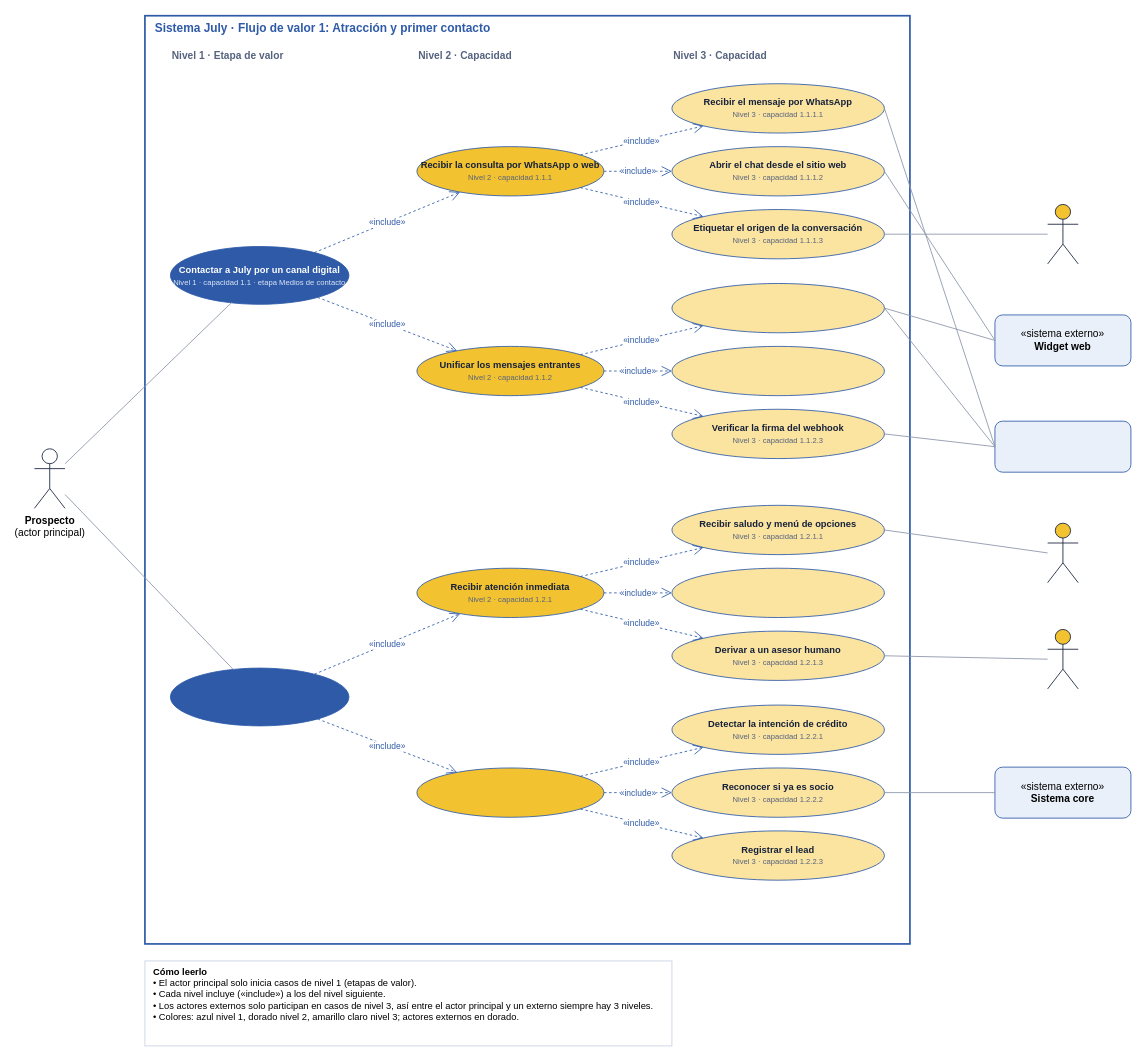
The diagram is 1146 pixels wide and 1061 high, and some of its shapes have lost their labels. Here are the shapes that lost their labels. From the top down, the centre of each, then its label:
At point 1062,234: "Equipo de marketing (actor externo)".
At point 777,308: "Convertir el mensaje a un formato común Nivel 3 · capacidad 1.1.2.1".
At point 777,371: "Encolar mensajes en picos de demanda Nivel 3 · capacidad 1.1.2.2".
At point 1062,446: "«sistema externo» WhatsApp Business API".
At point 1062,552: "Administrador del asistente (actor externo)".
At point 777,592: "Aceptar el aviso de privacidad Nivel 3 · capacidad 1.2.1.2".
At point 1062,659: "Asesor comercial (actor externo)".
At point 259,696: "Recibir el primer contacto Nivel 1 · capacidad 1.2 · etapa Contacto".
At point 510,792: "Identificar al prospecto y su necesidad Nivel 2 · capacidad 1.2.2".
